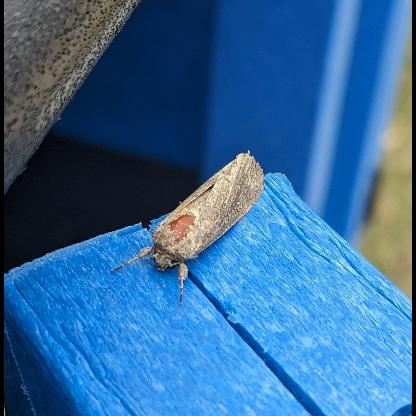Fall Armyworm Moth: (109, 149, 267, 308)
